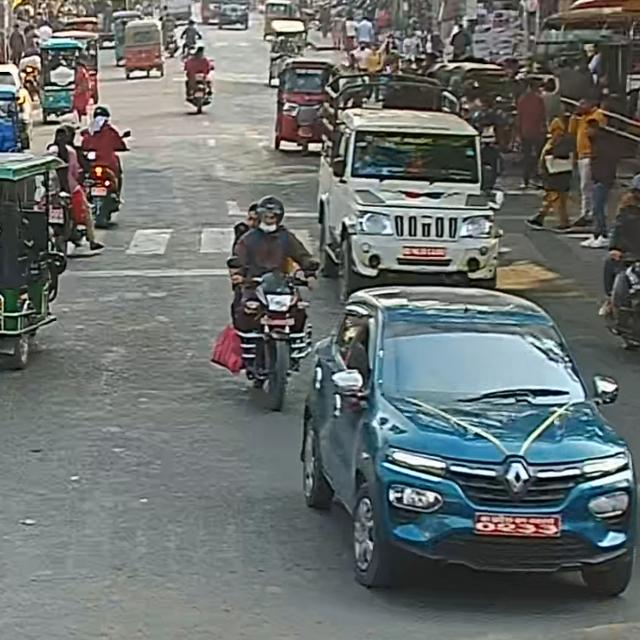license_plate: (454, 496, 571, 540)
